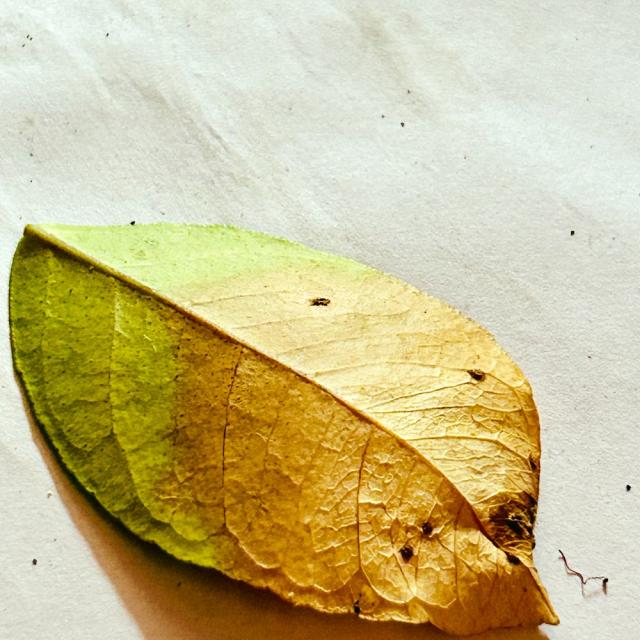DryLeaf_Lemon: (135, 225, 558, 634)
